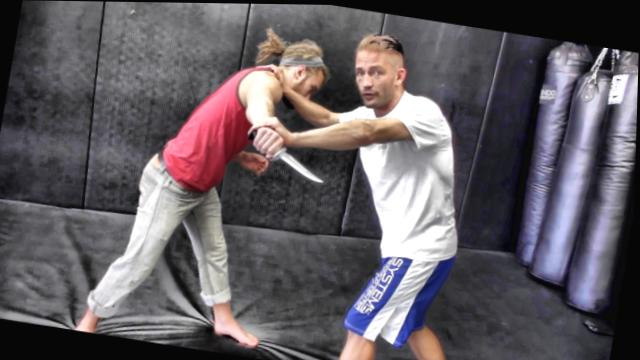knife: (240, 124, 336, 191)
